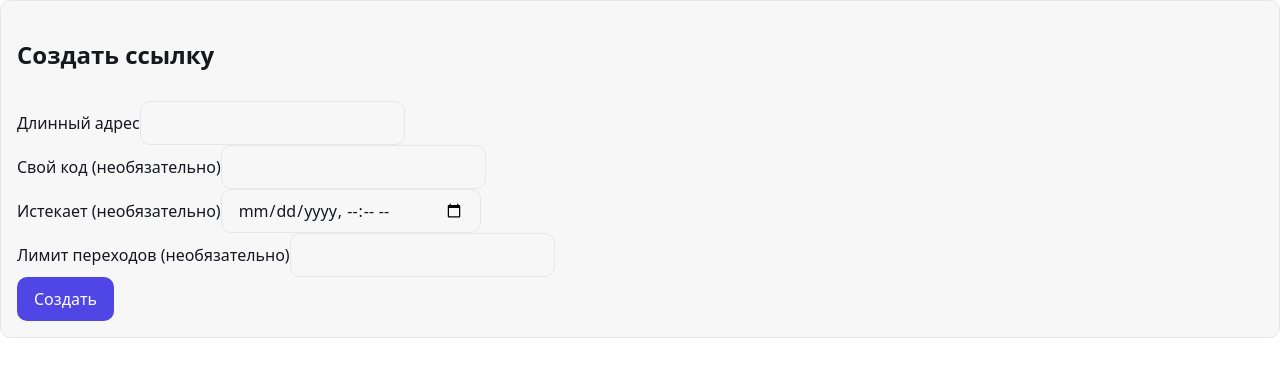
Test: LinkForm › 409 без префикса поля кладёт текст про занятый код под alias
Type "https://example.com" into the field labelled "Длинный адрес".
click(272, 123); type("https://example.com")  # box x1=140 y1=101 x2=405 y2=145
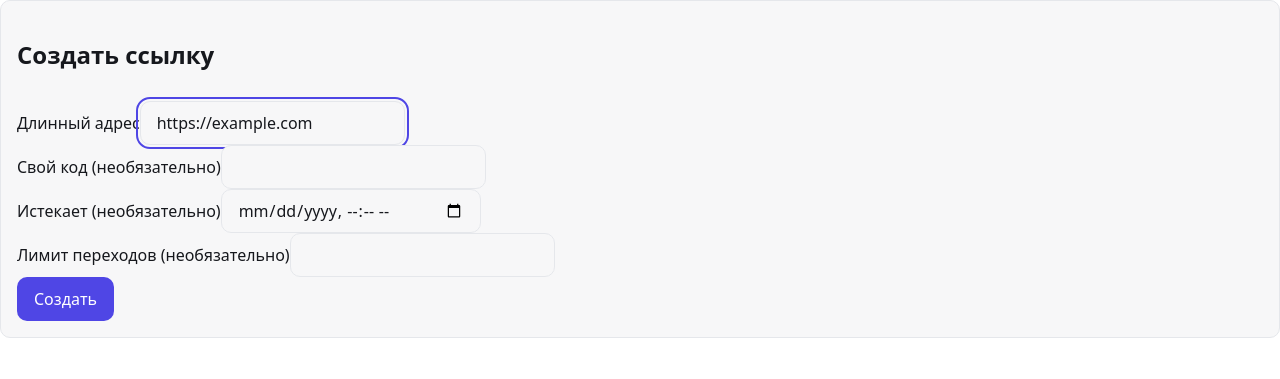
Type "my-code" into the field labelled "Свой код (необязательно)".
click(353, 167); type("my-code")  # box x1=221 y1=145 x2=486 y2=189
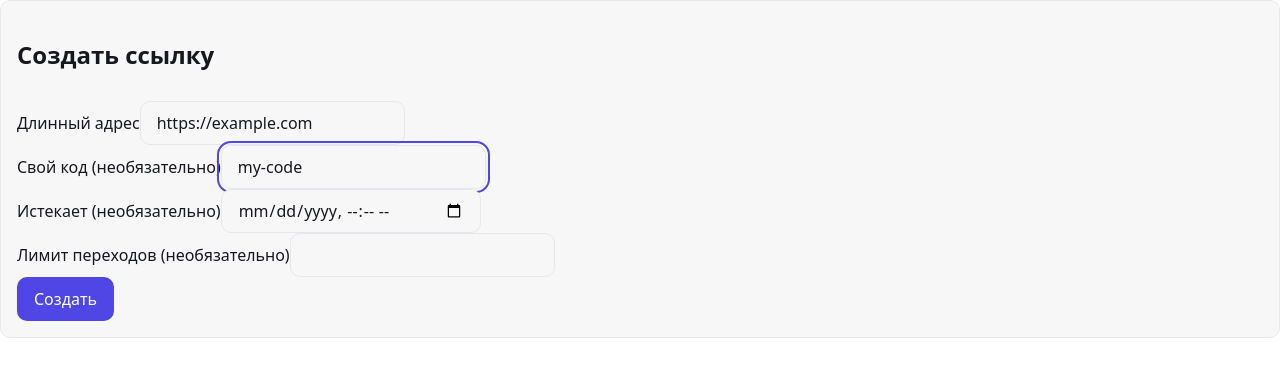
Click the button "Создать".
click(66, 299)  # box x1=17 y1=277 x2=114 y2=321
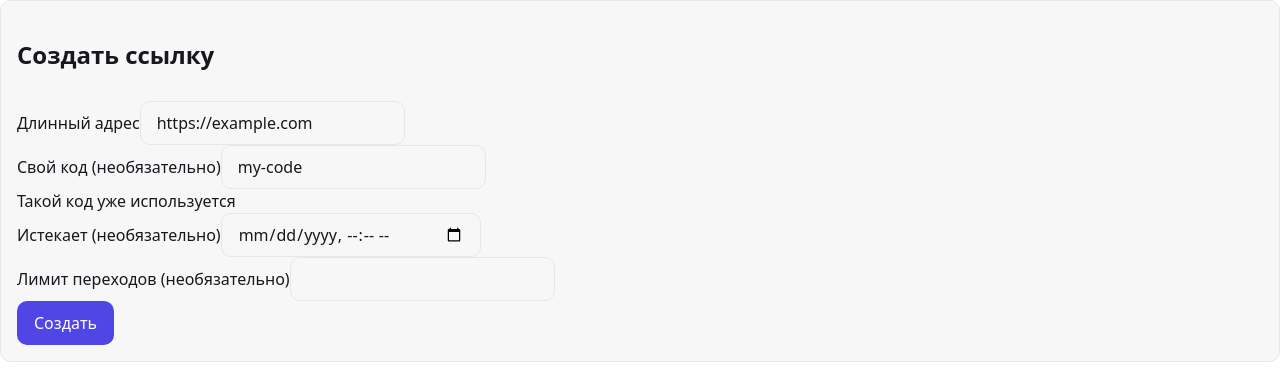
Check: the text "Такой код уже используется" is shown, box x1=17 y1=190 x2=236 y2=212
